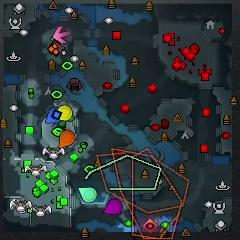p1: (47, 109, 63, 123)
p2: (79, 186, 97, 203)
p3: (102, 199, 124, 216)
p4: (58, 105, 72, 121)
p5: (61, 131, 75, 149)
x1: (53, 27, 71, 44)
